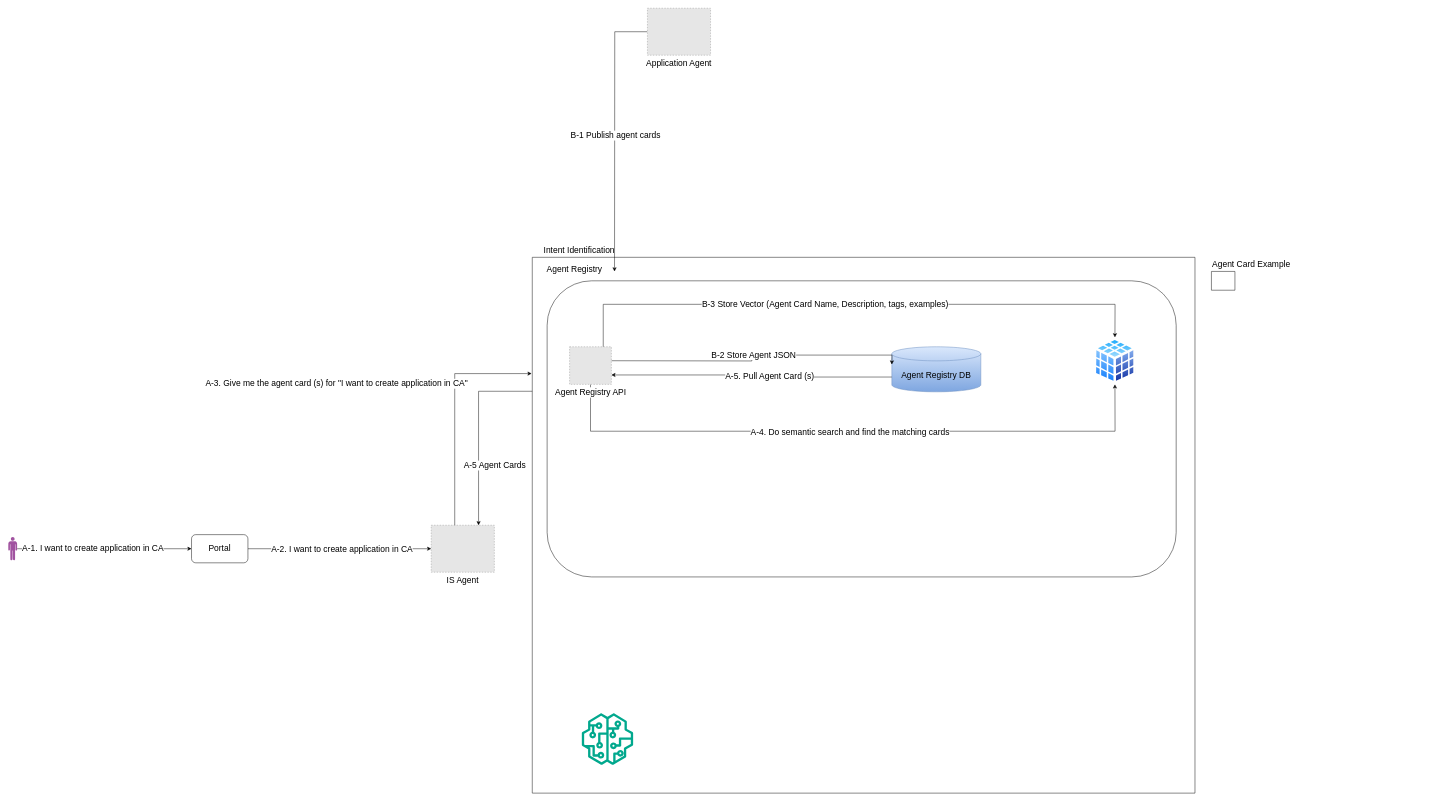
The diagram is 1438 pixels wide and 801 high, and some of its shapes have lost their labels. Grey dashed boxes stand in for pictures. Each missing label, with the centre of its shape:
"Agent RegistryVector DB" goes at [1115,360].
"Model" goes at [607,739].
